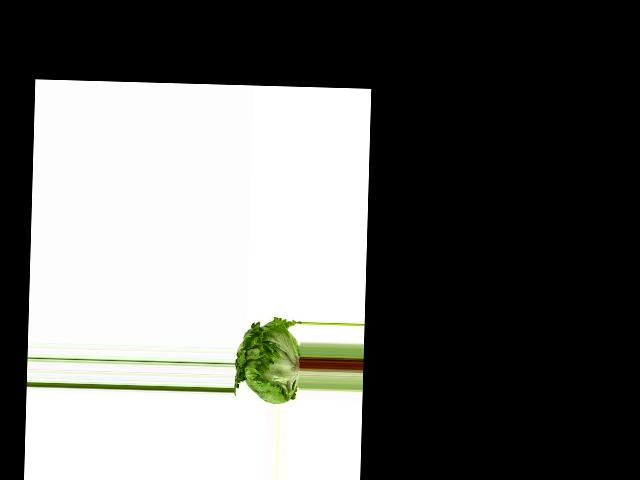lettuce: (234, 313, 301, 407)
